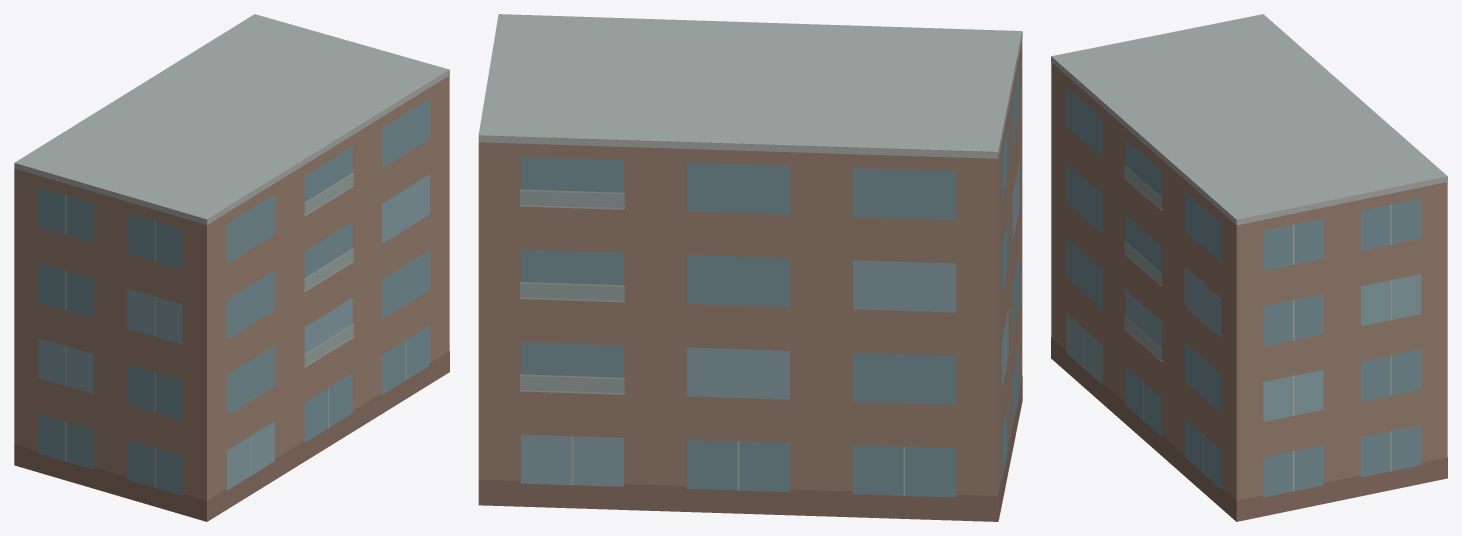
File: survey-upis-32702140.glb
The picture shows the model from 3 angles, left to right: view 1: azimuth 30°, elevation 25°; view 2: azimuth 150°, elevation 25°; view 3: azimuth 270°, elevation 25°; orthographic projection. The views are drawn at different scales.
Parts seen in each view (by area): view 1: survey-upis-32702140.tmp; view 2: survey-upis-32702140.tmp; view 3: survey-upis-32702140.tmp.
Boxes of the visible parts, x1,y1,x2,y2 form: survey-upis-32702140.tmp: (14,14,449,521); survey-upis-32702140.tmp: (478,14,1022,521); survey-upis-32702140.tmp: (1051,14,1447,521).
Bounding box in the file's own units: 18.99 × 13 × 15.48.
